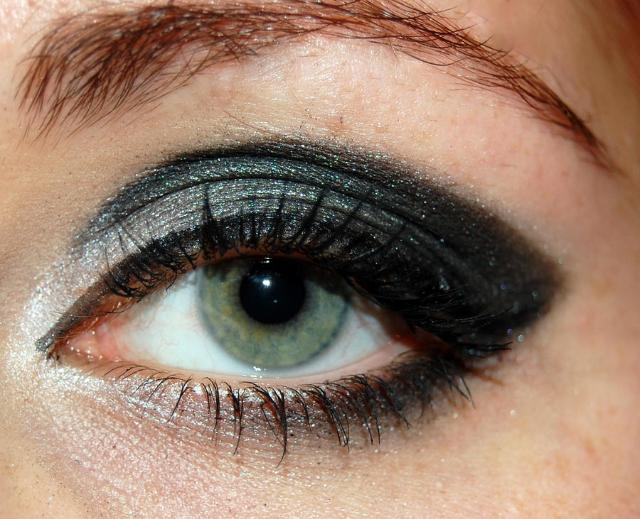eye: (197, 222, 359, 367)
